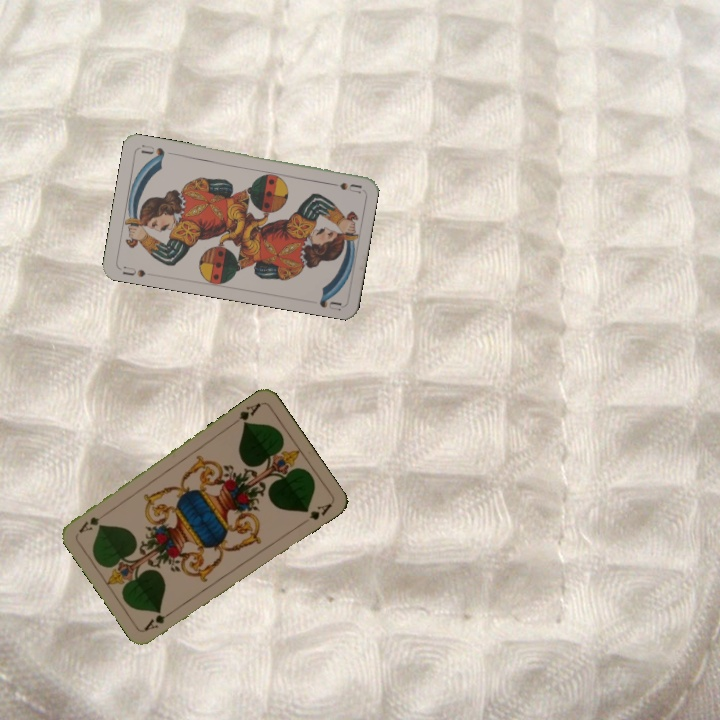GA: (140, 606, 177, 633), (235, 398, 263, 428)
SU: (322, 178, 363, 195), (116, 262, 148, 280)
